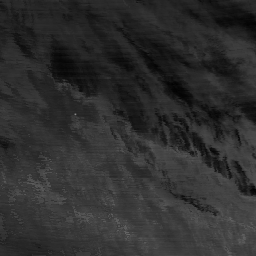Target: (72, 111, 77, 117)
